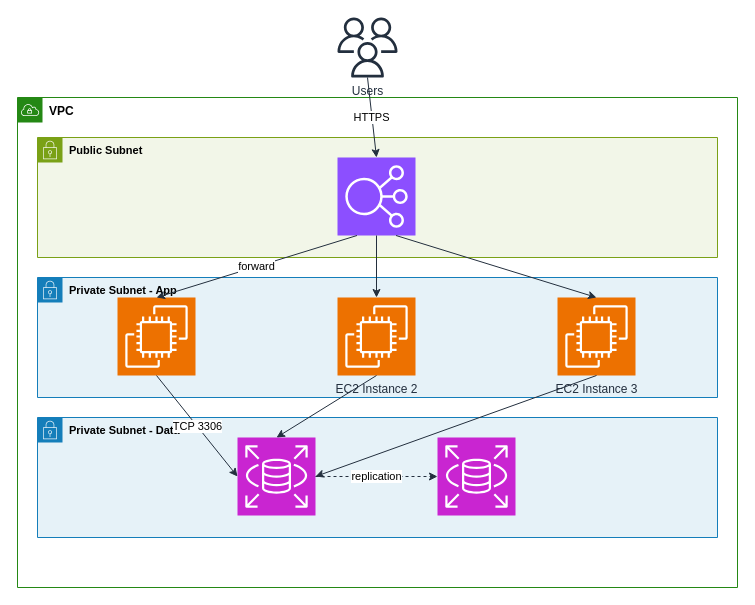
Image size: 755x605. Some labels were removed from this diagram. Each missing label, with the centre of its shape:
"Application Load Balancer" belongs at point 376,196.
"EC2 Instance 1" belongs at point 156,336.
"RDS Primary" belongs at point 276,476.
"RDS Replica" belongs at point 476,476.
